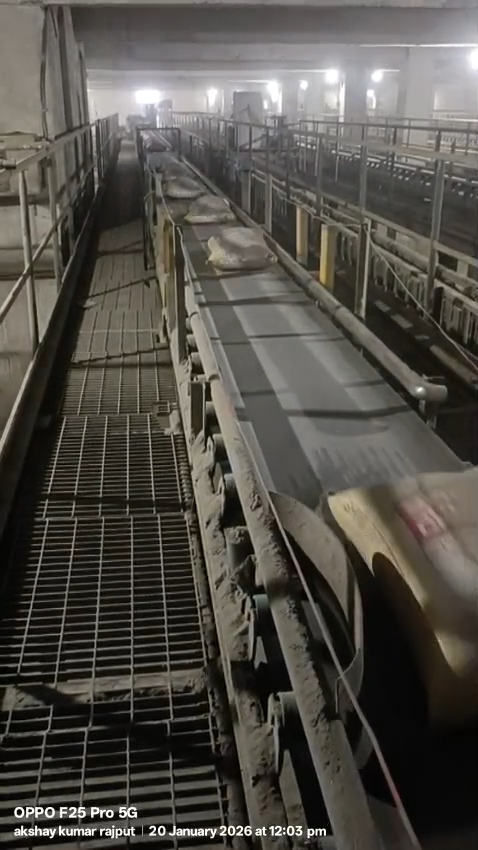Bag: (323, 471, 478, 676), (207, 226, 284, 271)
Printed: (387, 487, 478, 547)
